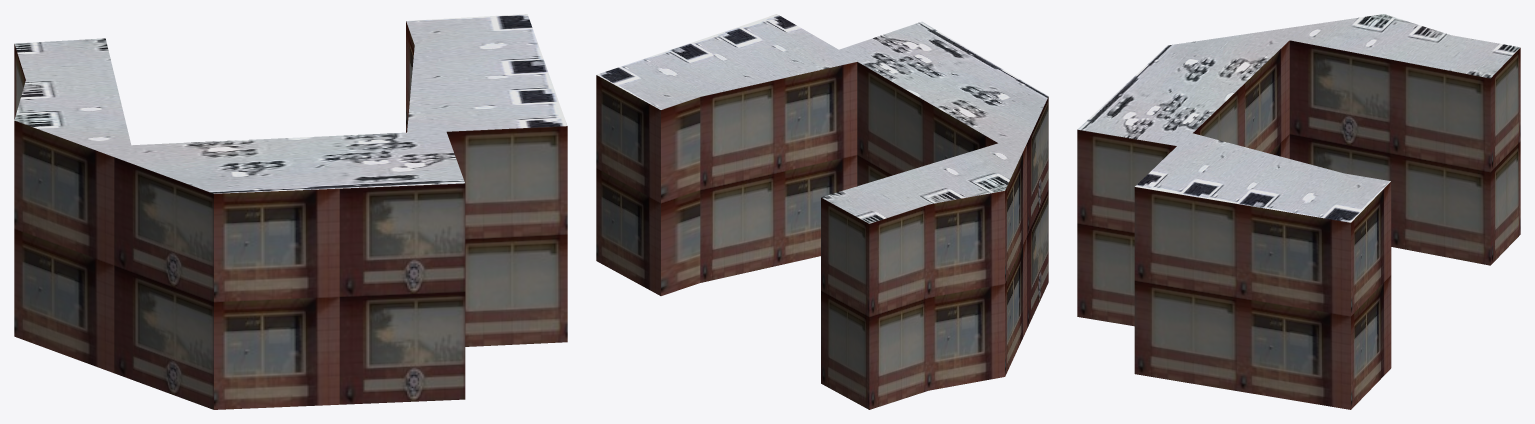
File: ResTex__2603.fbx
3 renders of one model, left to right at view 1: azimuth 30°, elevation 25°; view 2: azimuth 150°, elevation 25°; view 3: azimuth 270°, elevation 25°, orthographic. The views are drawn at different scales.
Visible parts, largest first — view 1: CityEngineMaterial_13_m, CityEngineMaterial_4_m; view 2: CityEngineMaterial_13_m, CityEngineMaterial_4_m; view 3: CityEngineMaterial_13_m, CityEngineMaterial_4_m.
Boxes of the visible parts, x1,y1,x2,y2 form: CityEngineMaterial_13_m: (14, 21, 567, 409); CityEngineMaterial_4_m: (14, 14, 567, 193); CityEngineMaterial_13_m: (596, 62, 1048, 409); CityEngineMaterial_4_m: (596, 14, 1048, 223); CityEngineMaterial_13_m: (1077, 40, 1520, 409); CityEngineMaterial_4_m: (1077, 14, 1520, 222).
Size of the model in its own units: 14.35 by 6 by 12.88.
2 materials, 2 textured.
